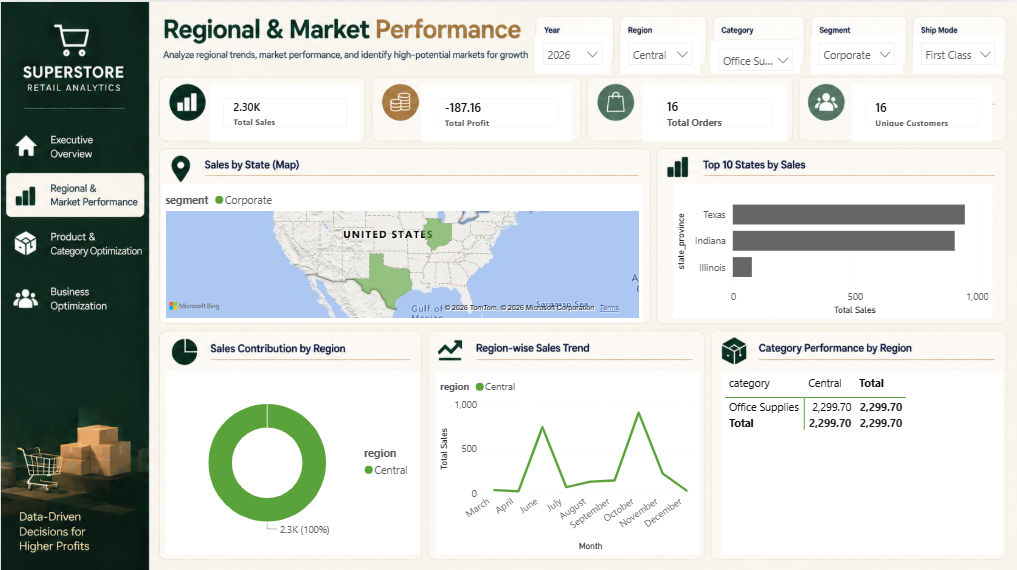

What the dashboard file says about the page in this screenshot:
{"tool":"powerbi","page":{"name":"Page 2","canvas":[1280,720],"ordinal":1},"visuals":[{"type":"slicer","fields":{"Values":["superstore_cleaned.order_date.Variation.Date Hierarchy.Year"]},"box":[672.8,41.6,94.5,49.1],"z":0},{"type":"slicer","fields":{"Values":["superstore_cleaned.region"]},"box":[780.5,41.6,100.2,49.1],"z":1000},{"type":"slicer","fields":{"Values":["superstore_cleaned.segment"]},"box":[1020.5,41.6,115.3,49.1],"z":2000},{"type":"slicer","fields":{"Values":["superstore_cleaned.category"]},"box":[893.9,49.1,113.4,41.6],"z":3000},{"type":"slicer","fields":{"Values":["superstore_cleaned.ship_mode"]},"box":[1149,41.6,113.4,49.1],"z":4000},{"type":"filledMap","fields":{"Series":["superstore_cleaned.segment"],"Category":["superstore_cleaned.state_province"]},"box":[202.2,228.7,606.6,173.9],"z":5000},{"type":"pivotTable","fields":{"Rows":["superstore_cleaned.category"],"Columns":["superstore_cleaned.region"],"Values":["superstore_cleaned.Total Sales"]},"box":[907.1,464.9,355.3,230.6],"z":6000},{"type":"donutChart","title":"Total Sales by state ( Top 10 )","fields":{"Y":["superstore_cleaned.Total Sales","superstore_cleaned.Total Profit"],"Category":["superstore_cleaned.region"]},"box":[207.9,464.9,319.4,230.6],"z":7000},{"type":"lineChart","title":"Total Profit by state_ ( Top 10 )","fields":{"Category":["superstore_cleaned.order_date.Variation.Date Hierarchy.Month"],"Y":["superstore_cleaned.Total Sales"],"Series":["superstore_cleaned.region"]},"box":[548,464.9,332.6,230.6],"z":8000},{"type":"clusteredBarChart","fields":{"Y":["superstore_cleaned.Total Sales"],"Category":["superstore_cleaned.state_province"]},"box":[846.6,228.7,402.5,170.1],"z":9000},{"type":"cardVisual","fields":{"Data":["superstore_cleaned.Total Sales"]},"box":[262.7,103.9,190.9,71.8],"z":10000},{"type":"cardVisual","fields":{"Data":["superstore_cleaned.Total Profit"]},"box":[529.1,103.9,190.9,71.8],"z":11000},{"type":"cardVisual","fields":{"Data":["superstore_cleaned.Total Orders"]},"box":[808.8,103.9,181.4,71.8],"z":12000},{"type":"cardVisual","fields":{"Data":["Recommendation Areas.Unique Customers"]},"box":[1071.5,103.9,177.6,71.8],"z":13000}]}

Visuals, with their boxes on the page's 1280x720 design canvas (x1, y1, x2, y2). These are canvas units, not pixel positions in the 1017x570 screenshot, which may show the page scaled, cropped or inside an application window:
slicer - superstore_cleaned.order_date.Variation.Date Hierarchy.Year: Rect(673, 42, 767, 91)
slicer - superstore_cleaned.region: Rect(780, 42, 881, 91)
slicer - superstore_cleaned.segment: Rect(1020, 42, 1136, 91)
slicer - superstore_cleaned.category: Rect(894, 49, 1007, 91)
slicer - superstore_cleaned.ship_mode: Rect(1149, 42, 1262, 91)
filledMap - superstore_cleaned.segment x superstore_cleaned.state_province: Rect(202, 229, 809, 403)
pivotTable - superstore_cleaned.category x superstore_cleaned.region: Rect(907, 465, 1262, 696)
"Total Sales by state ( Top 10 )" donutChart: Rect(208, 465, 527, 696)
"Total Profit by state_ ( Top 10 )" lineChart: Rect(548, 465, 881, 696)
clusteredBarChart - superstore_cleaned.Total Sales x superstore_cleaned.state_province: Rect(847, 229, 1249, 399)
cardVisual - superstore_cleaned.Total Sales: Rect(263, 104, 454, 176)
cardVisual - superstore_cleaned.Total Profit: Rect(529, 104, 720, 176)
cardVisual - superstore_cleaned.Total Orders: Rect(809, 104, 990, 176)
cardVisual - Recommendation Areas.Unique Customers: Rect(1072, 104, 1249, 176)
